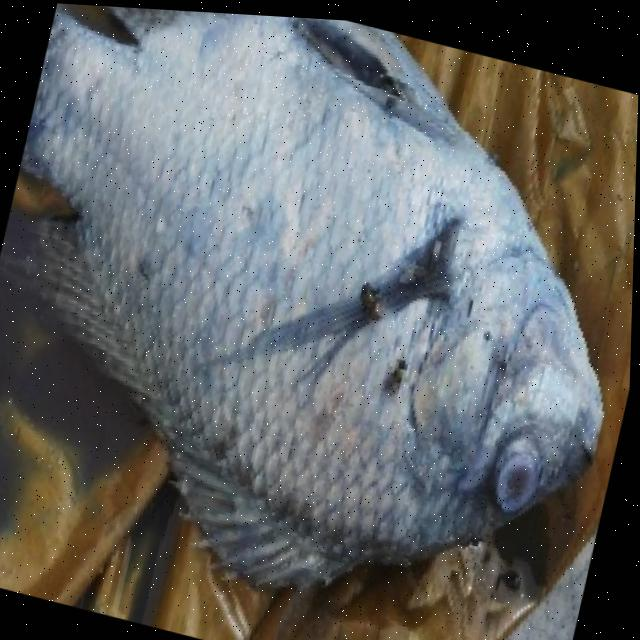Non-Fresh: (0, 3, 640, 603)
